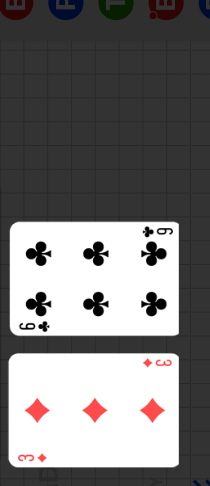6C: (140, 225, 175, 239), (18, 318, 52, 332)
